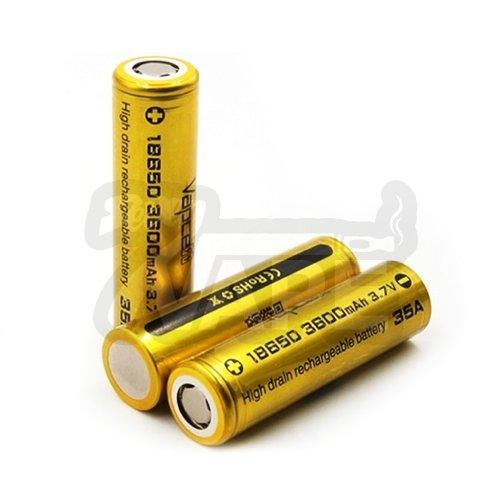Battery: (164, 256, 436, 450), (98, 230, 364, 416), (108, 51, 202, 332)
